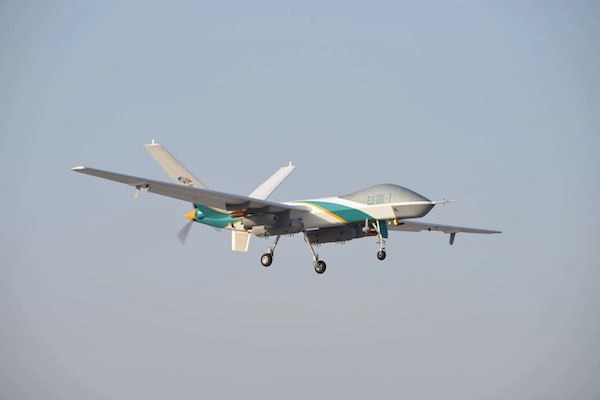maybay_khongnguoilai: (78, 143, 507, 265)
